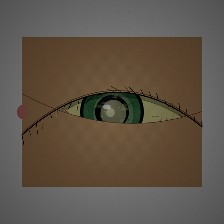corneal_ulcer: (92, 96, 135, 131)
